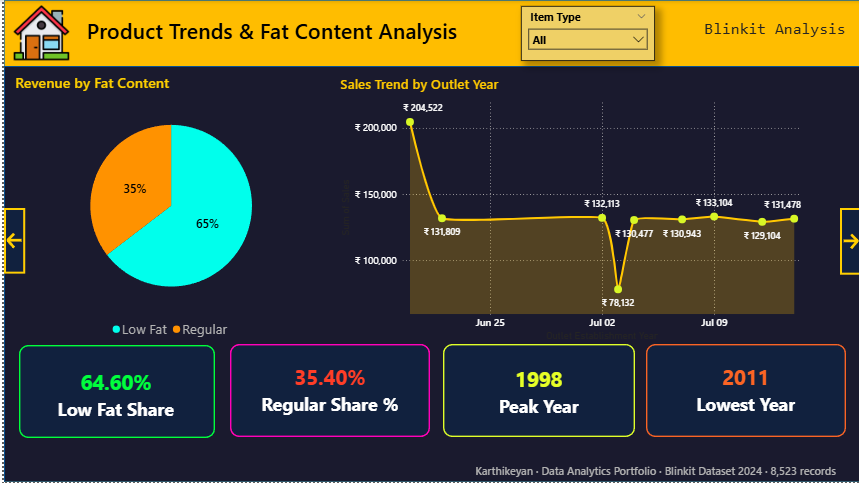

What the dashboard file says about the page in this screenshot:
{"tool":"powerbi","page":{"name":"Fat & Year Trends","canvas":[1280,720],"ordinal":4},"visuals":[{"type":"shape","box":[0,0,1280,721.2],"z":0},{"type":"shape","box":[0,98.6,1280.2,621.4],"z":1000},{"type":"textbox","box":[112,17.9,576.6,61.2],"z":2000},{"type":"textbox","box":[1041.2,23.9,239,49.3],"z":3000},{"type":"pieChart","title":"Revenue by Fat Content","fields":{"Category":["blinkit_cleaned.Item Fat Content"],"Y":["Sum(blinkit_cleaned.Sales)"]},"box":[12.1,108.7,475.5,404.5],"z":4000},{"type":"lineChart","title":"Sales Trend by Outlet Year","fields":{"Category":["blinkit_cleaned.Outlet Establishment Year"],"Y":["Sum(blinkit_cleaned.Sales)"]},"box":[498.1,110.2,707.9,404.5],"z":5000},{"type":"shape","box":[22.4,515.6,292.8,138.9],"z":6000},{"type":"shape","box":[959.6,513.9,298.8,138.9],"z":7000},{"type":"shape","box":[656.4,513.9,286.8,138.9],"z":8000},{"type":"shape","box":[338.2,513.9,298.8,138.9],"z":9000},{"type":"cardVisual","fields":{"Data":["blinkit_cleaned.Low Fat Share"]},"box":[20.9,519.8,292.8,138.9],"z":10000},{"type":"cardVisual","fields":{"Data":["blinkit_cleaned.Regular Share %"]},"box":[340.6,512.4,292.8,138.9],"z":11000},{"type":"cardVisual","fields":{"Data":["blinkit_cleaned.Peak Year"]},"box":[655.8,515.4,286.8,138.9],"z":12000},{"type":"cardVisual","fields":{"Data":["blinkit_cleaned.Lowest Year"]},"box":[959,512.4,298.8,138.9],"z":13000},{"type":"textbox","box":[666.1,687.1,613.9,32.9],"z":14000},{"type":"actionButton","box":[1248.3,310.9,31.7,99.6],"z":15000},{"type":"actionButton","box":[0,310.9,31.7,98.1],"z":16000},{"type":"image","box":[10.6,7.5,90.6,83],"z":17000},{"type":"slicer","fields":{"Values":["blinkit_cleaned.Item Type"]},"box":[772.3,9,200.2,82.2],"z":18000}]}

Visuals, with their boxes in screenshot pixels (x1, y1, x2, y2), scaled from the page's 1280x720 canvas onto the 859x483 screenshot:
shape: [x1=0, y1=0, x2=858, y2=482]
shape: [x1=0, y1=66, x2=858, y2=482]
textbox: [x1=75, y1=12, x2=462, y2=53]
textbox: [x1=699, y1=16, x2=858, y2=49]
"Revenue by Fat Content" pieChart: [x1=8, y1=73, x2=327, y2=344]
"Sales Trend by Outlet Year" lineChart: [x1=334, y1=74, x2=809, y2=345]
shape: [x1=15, y1=346, x2=212, y2=439]
shape: [x1=644, y1=345, x2=845, y2=438]
shape: [x1=441, y1=345, x2=633, y2=438]
shape: [x1=227, y1=345, x2=427, y2=438]
cardVisual - blinkit_cleaned.Low Fat Share: [x1=14, y1=349, x2=211, y2=442]
cardVisual - blinkit_cleaned.Regular Share %: [x1=229, y1=344, x2=425, y2=437]
cardVisual - blinkit_cleaned.Peak Year: [x1=440, y1=346, x2=633, y2=439]
cardVisual - blinkit_cleaned.Lowest Year: [x1=644, y1=344, x2=844, y2=437]
textbox: [x1=447, y1=461, x2=858, y2=482]
actionButton: [x1=838, y1=209, x2=858, y2=275]
actionButton: [x1=0, y1=209, x2=21, y2=274]
image: [x1=7, y1=5, x2=68, y2=61]
slicer - blinkit_cleaned.Item Type: [x1=518, y1=6, x2=653, y2=61]
